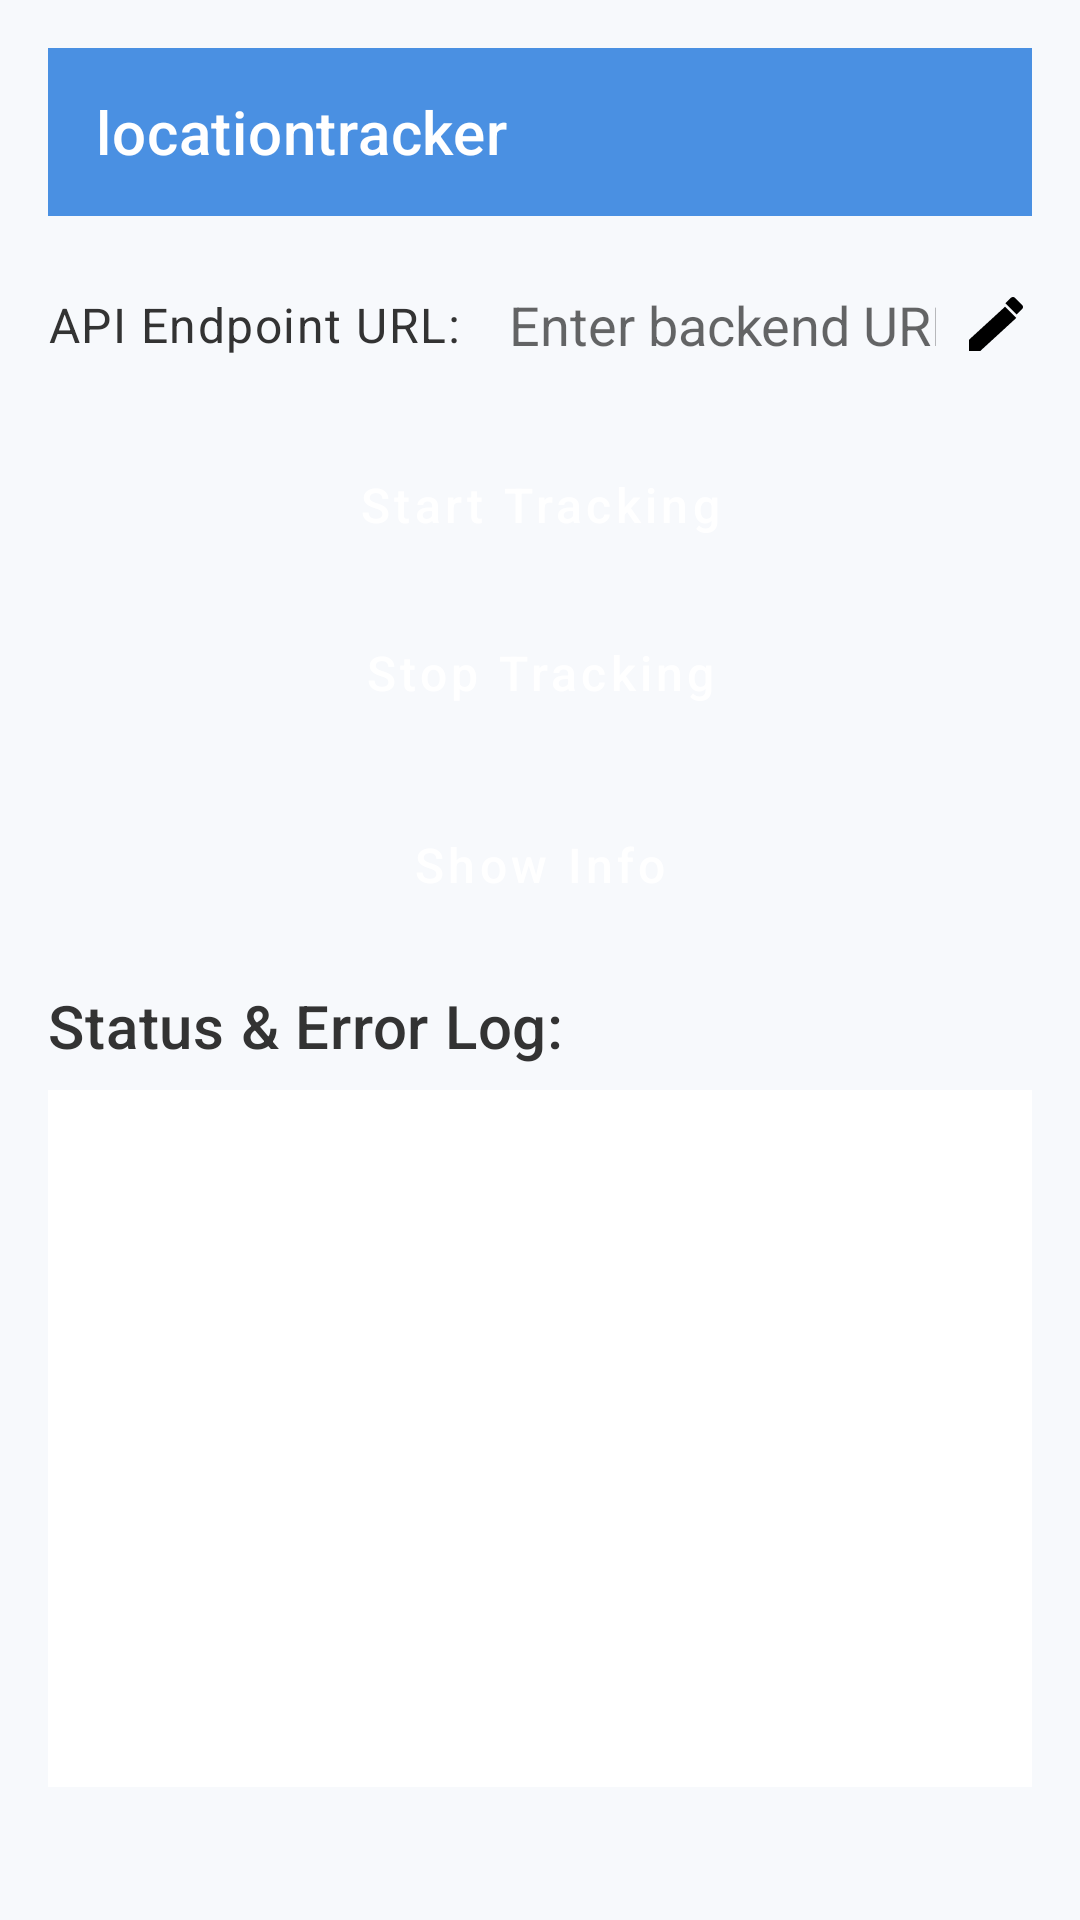

Icons on this 1080x1920 Android screen, each with its box as (x1, y1, x2, y2):
Edit URL: (969, 297, 1023, 351)
